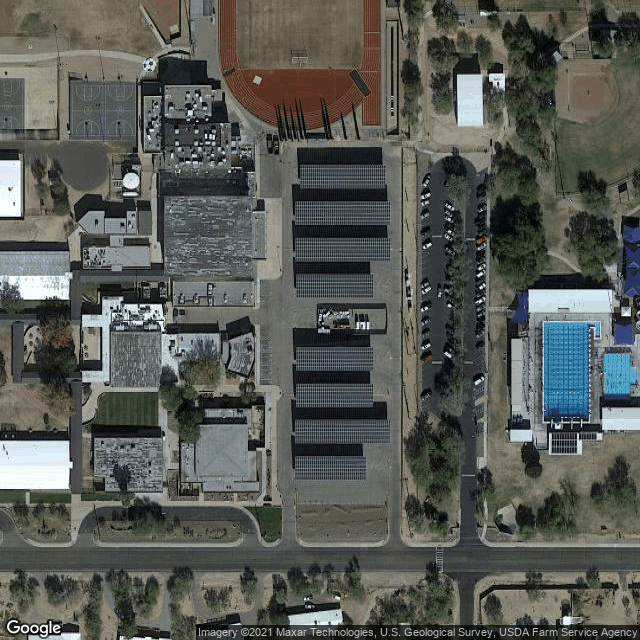carport-fixed: (293, 237, 390, 262), (292, 200, 389, 225), (293, 421, 389, 443), (298, 164, 387, 187), (293, 383, 375, 407), (294, 348, 374, 372), (297, 274, 373, 297), (294, 455, 366, 479)
rooftop-fixed: (544, 431, 602, 455)
